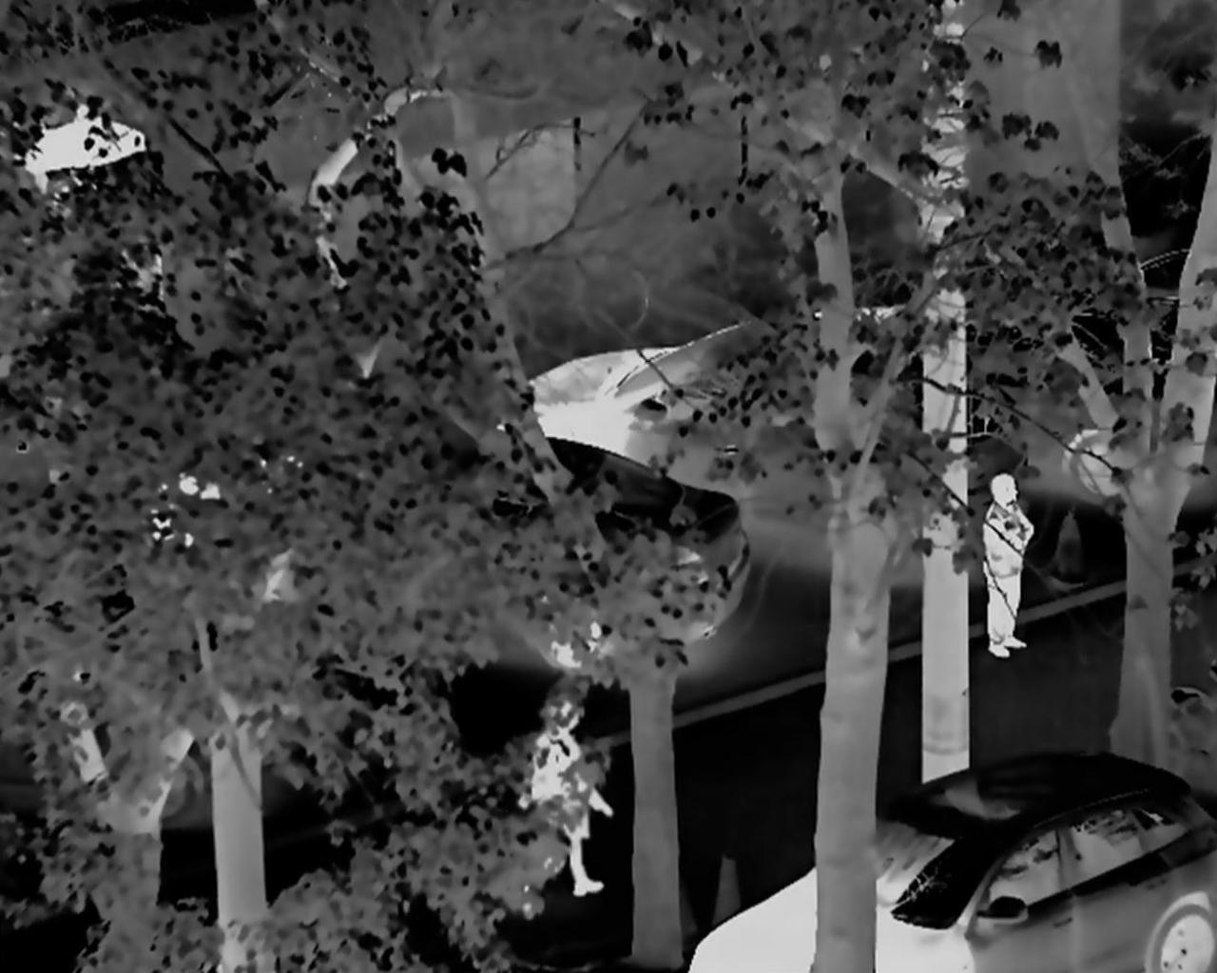person: (521, 705, 615, 897), (967, 474, 1044, 673)
